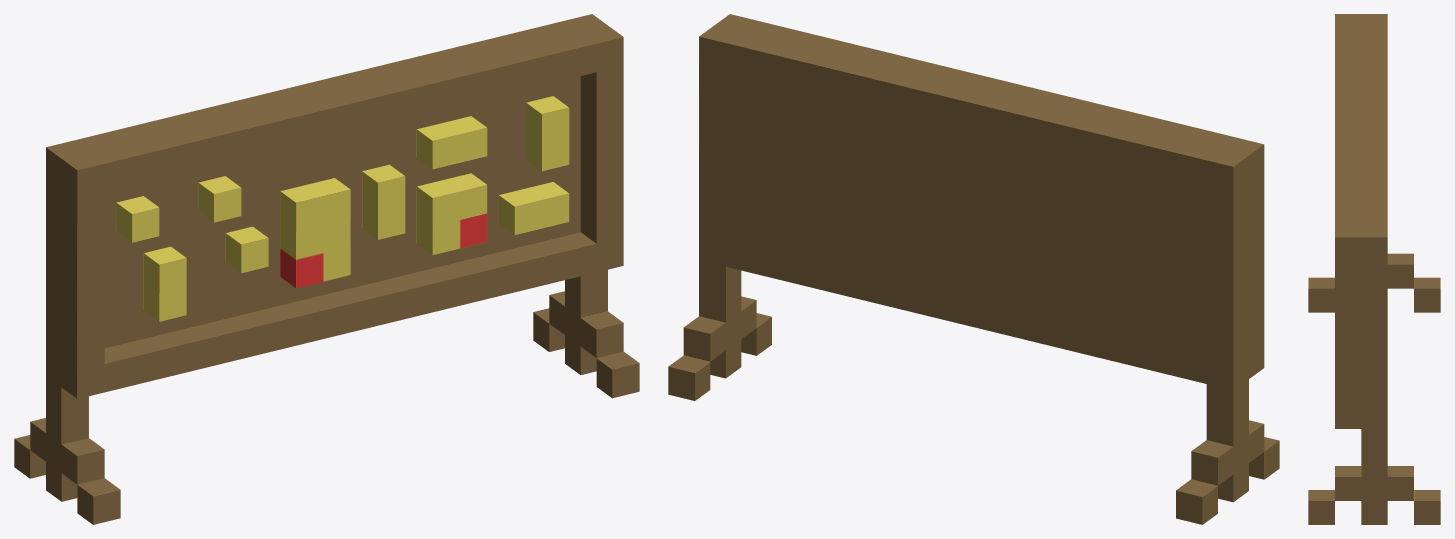
The model's file is Letters.glb.
The picture shows the model from 3 angles, left to right: view 1: azimuth 30°, elevation 25°; view 2: azimuth 150°, elevation 25°; view 3: azimuth 270°, elevation 25°; orthographic projection. The views are drawn at different scales.
Parts seen in each view (by area): view 1: Letters; view 2: Letters; view 3: Letters.
Boxes of the visible parts, bbox=[...] form: Letters: bbox=[14, 14, 639, 524]; Letters: bbox=[668, 14, 1279, 524]; Letters: bbox=[1308, 14, 1440, 524].
Size of the model in its own units: 2 by 1.2 by 0.5.
1 material, 1 textured.
